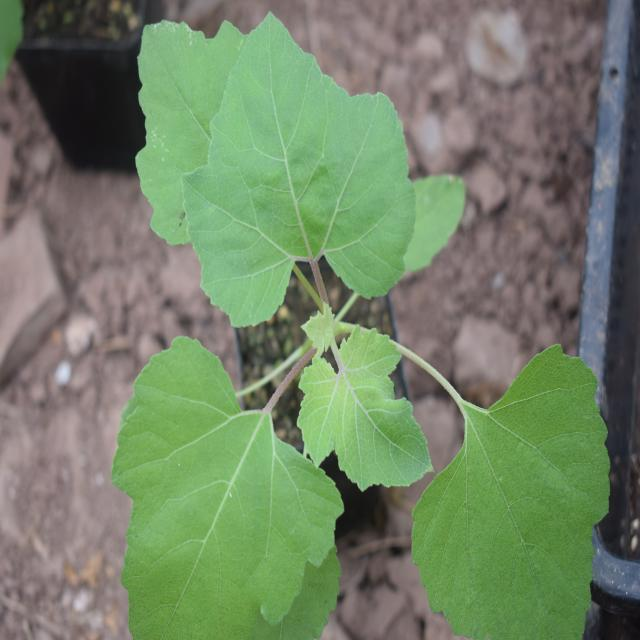cocklebur: (122, 66, 594, 618)
